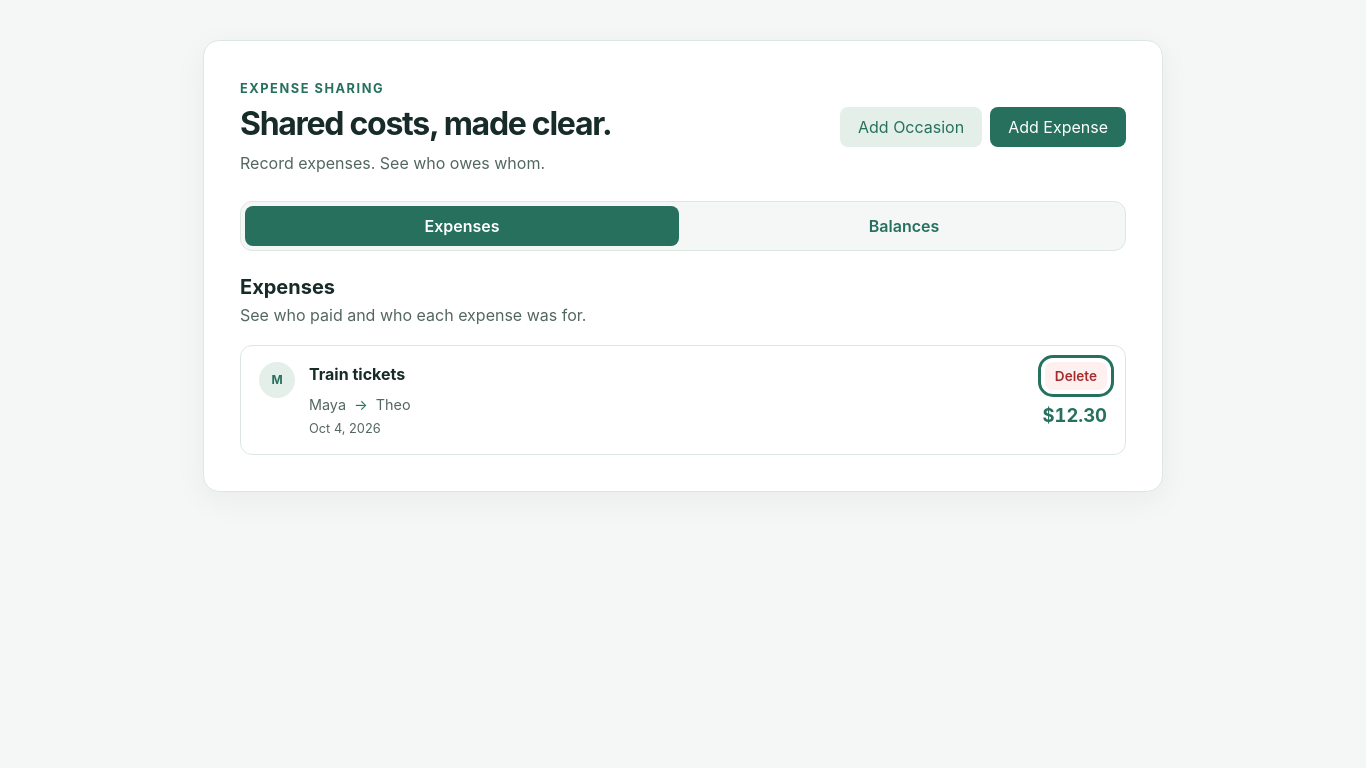
Test: delete fails offline, allows button, and never writes on reconnect
Expected: the heading "Train tickets" is shown, [309, 362, 405, 386]
Step 1. Click the button with aria-label "Delete expense: Train tickets ($12.30)" → (1076,376), box [1045, 362, 1107, 390]
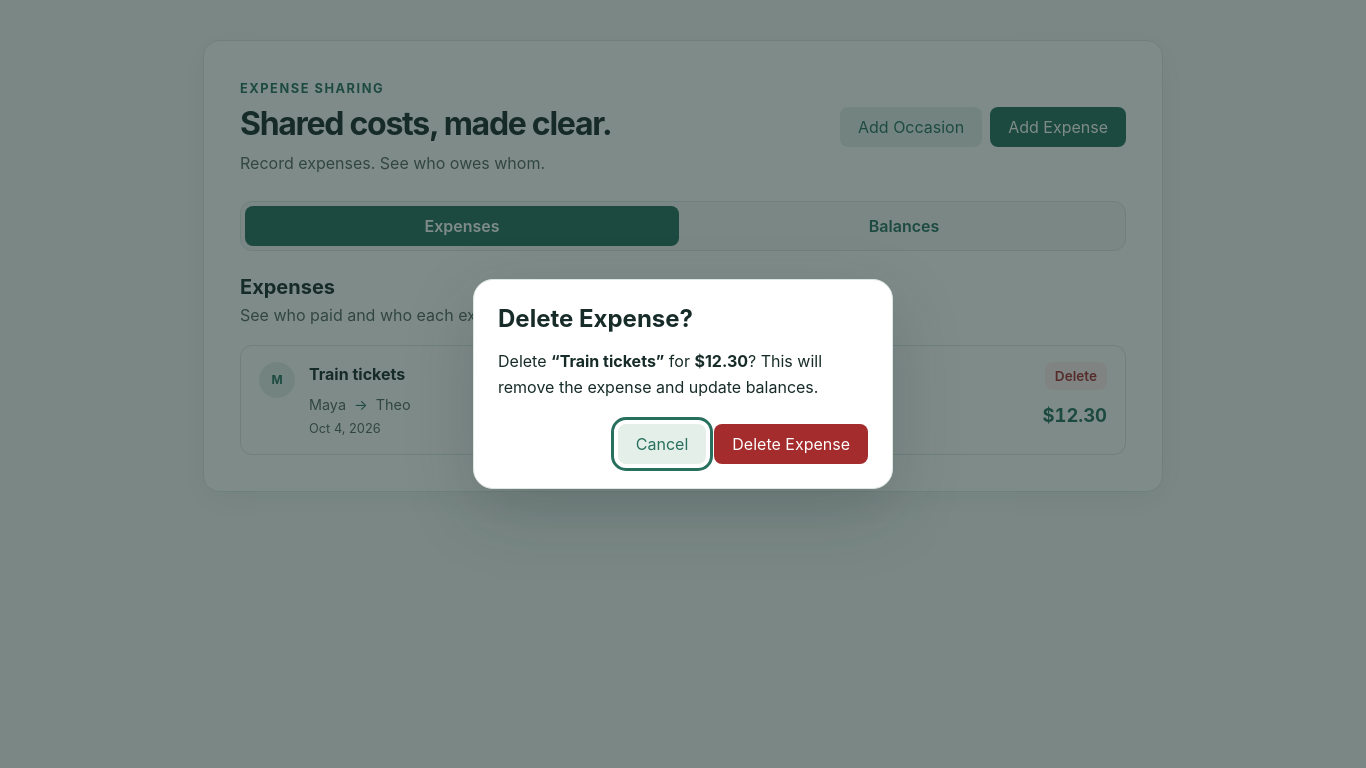
Step 2. Click the button "Delete Expense" → (791,444), box [714, 424, 868, 464]
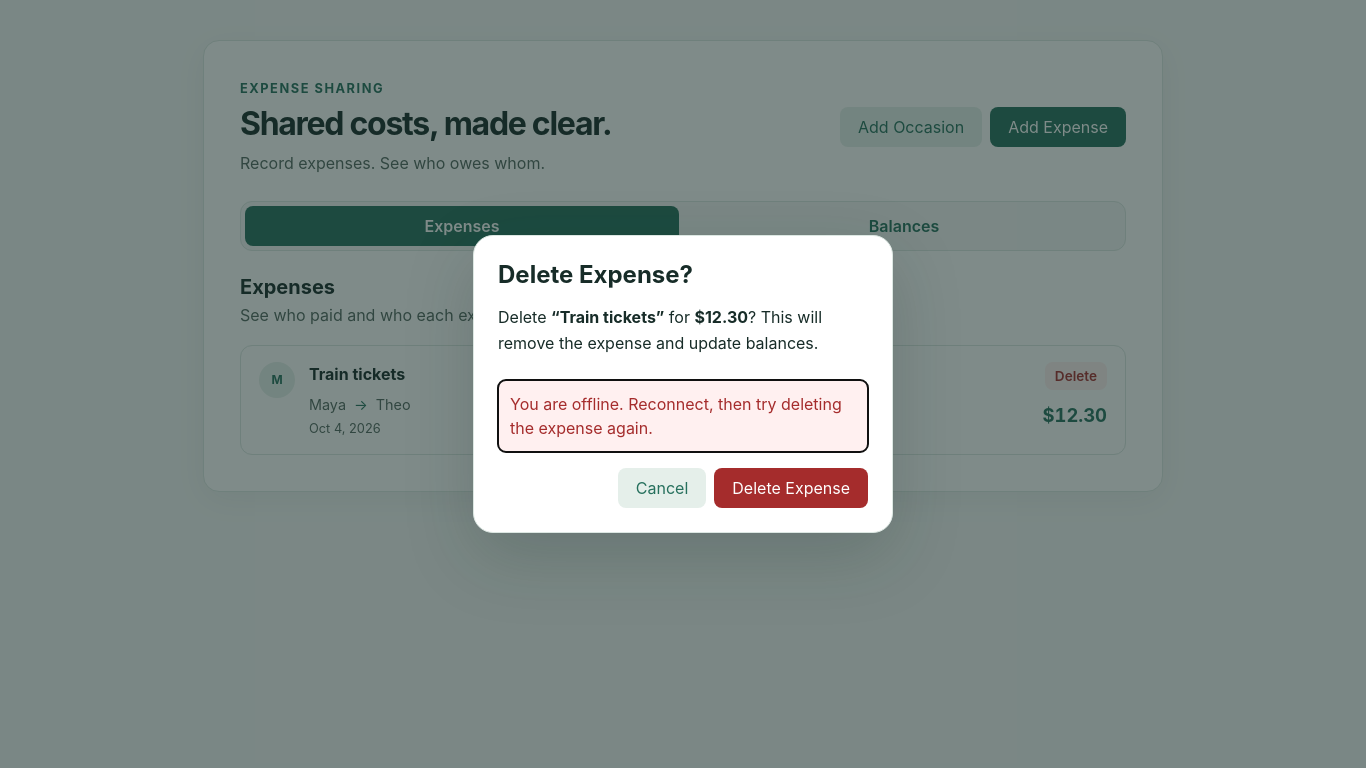
Result: the button "Delete Expense" is enabled at [714, 468, 868, 508]
Result: the button "Cancel" is enabled
Result: the message shows "You are offline. Reconnect, then try" at [510, 394, 842, 438]
Step 3. Click the button "Cancel" → (662,488), box [618, 468, 706, 508]
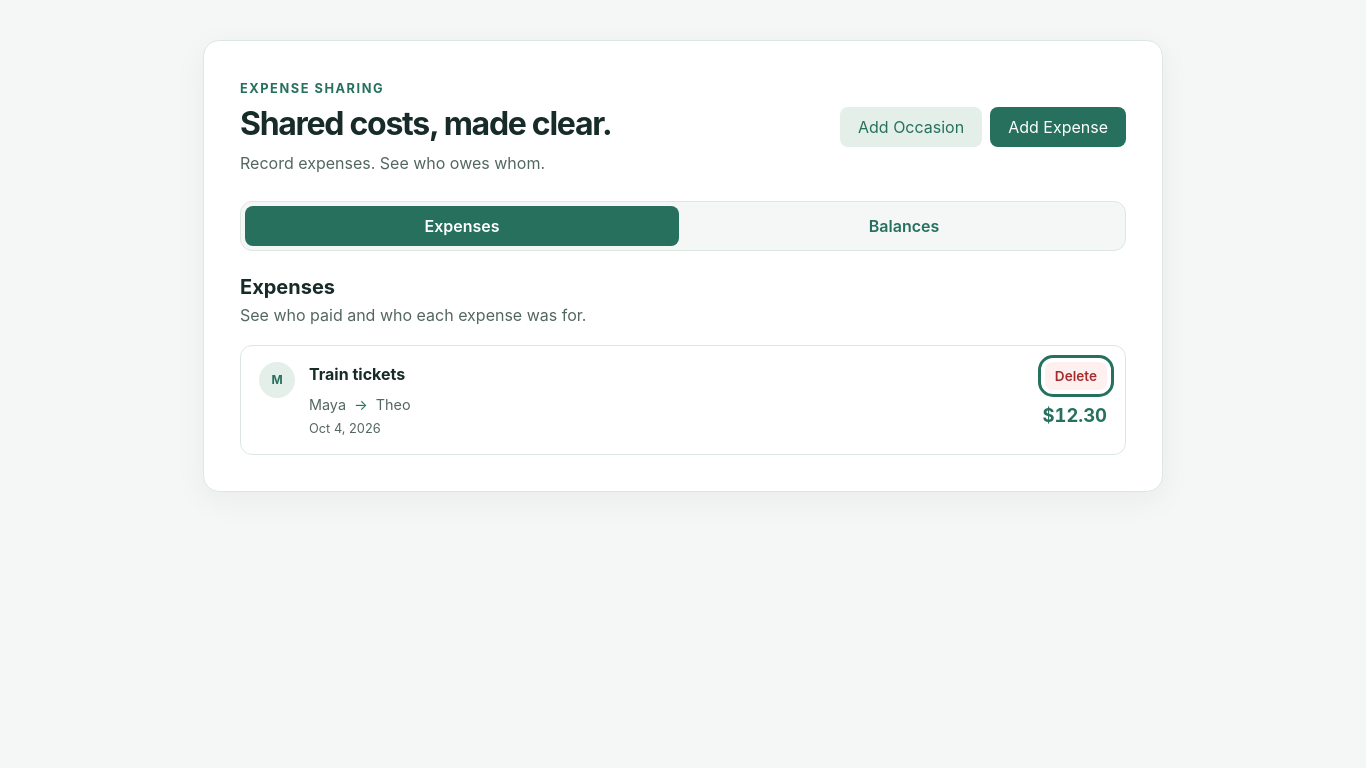
Result: the dialog is gone
